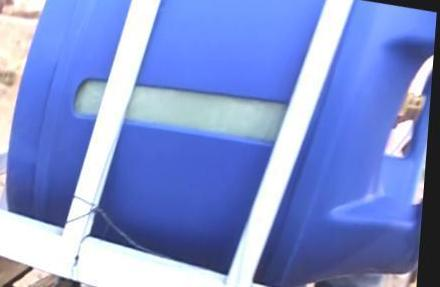cylinder: (1, 0, 440, 287)
